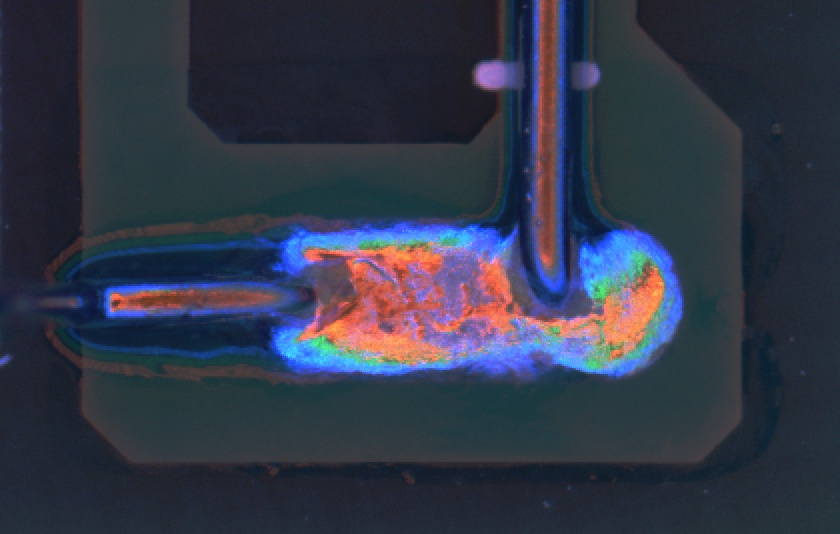spring: (502, 1, 590, 311), (1, 270, 330, 329)
spring_pin: (254, 221, 692, 381)
